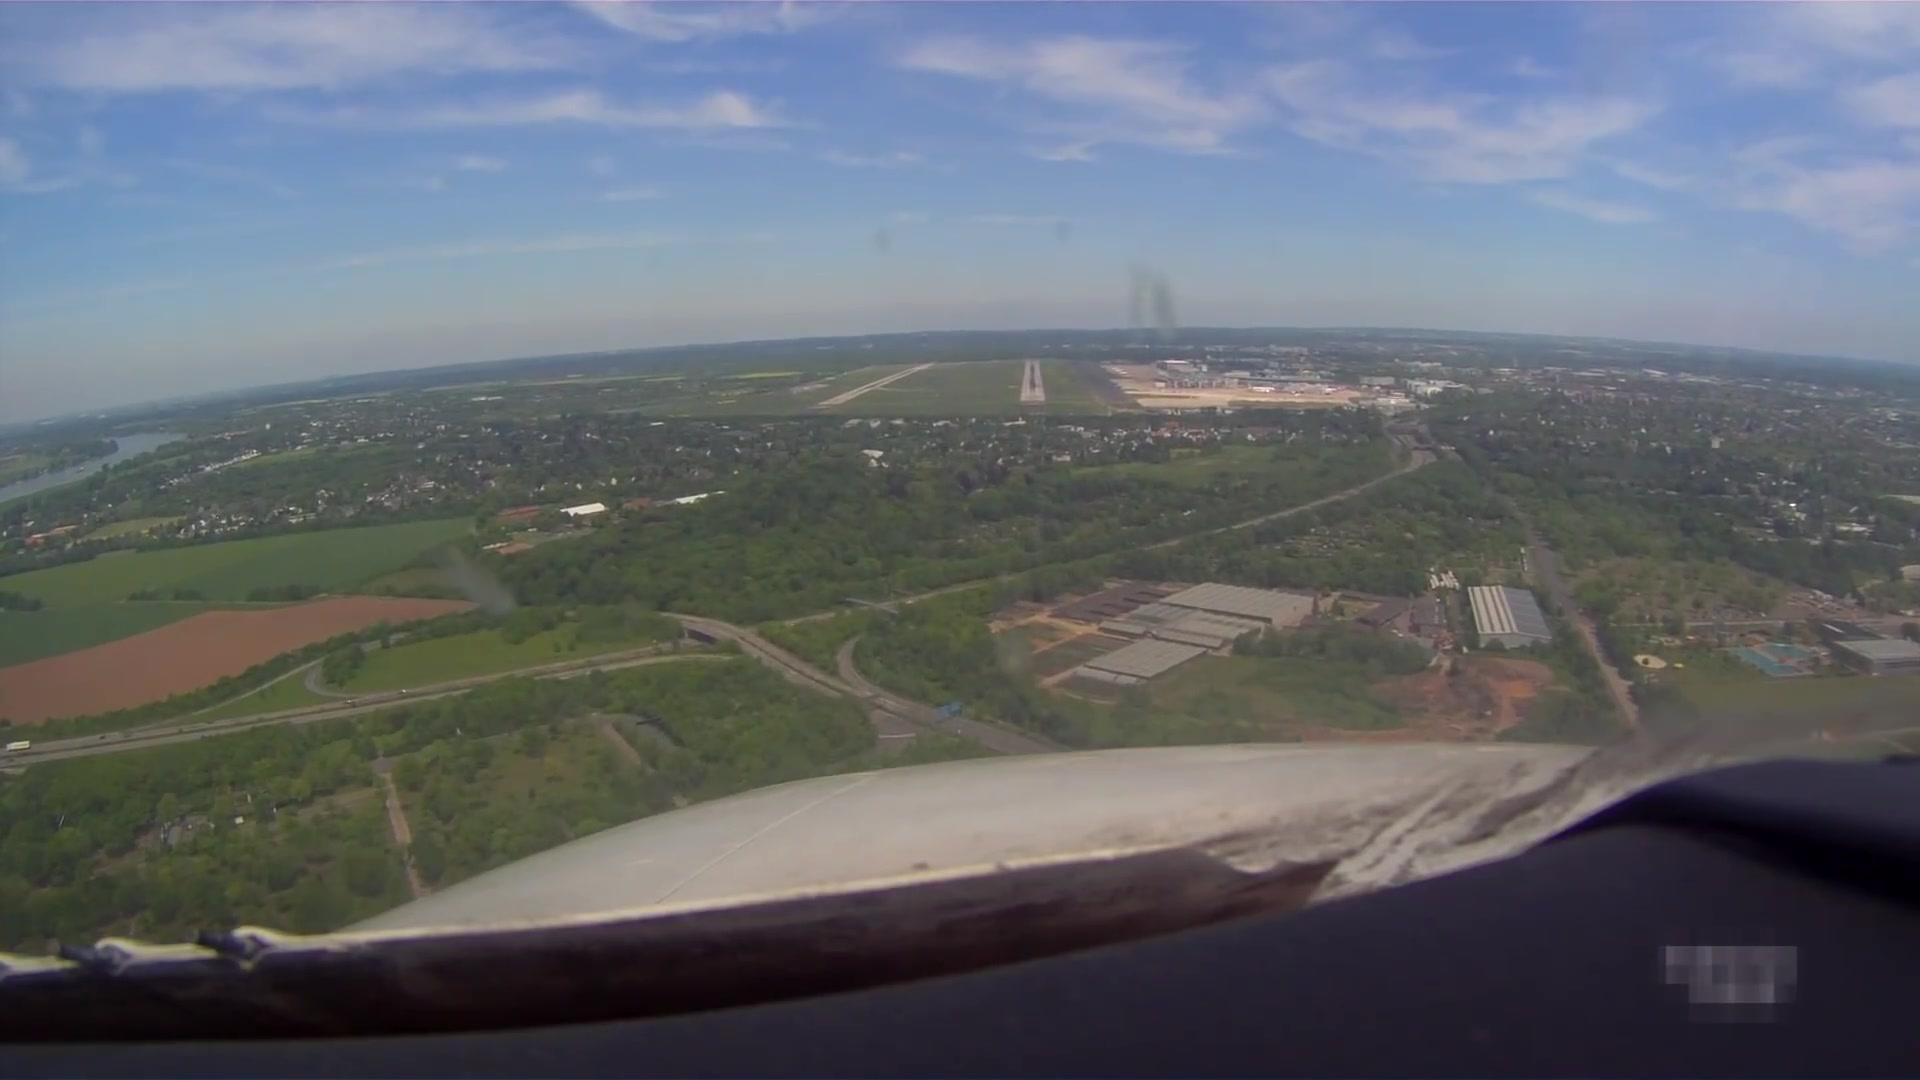runway: (815, 361, 934, 406), (1017, 359, 1047, 404)
